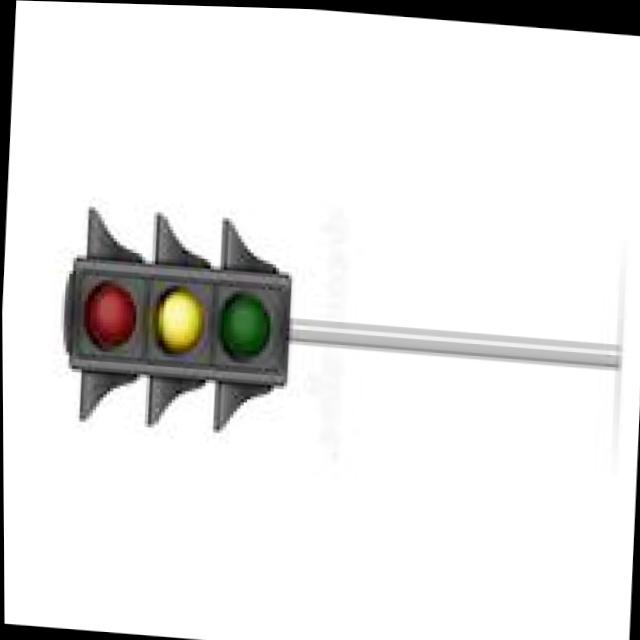green_light: (203, 259, 289, 399)
red_light: (72, 269, 142, 365)
yellow_light: (144, 260, 209, 399)
